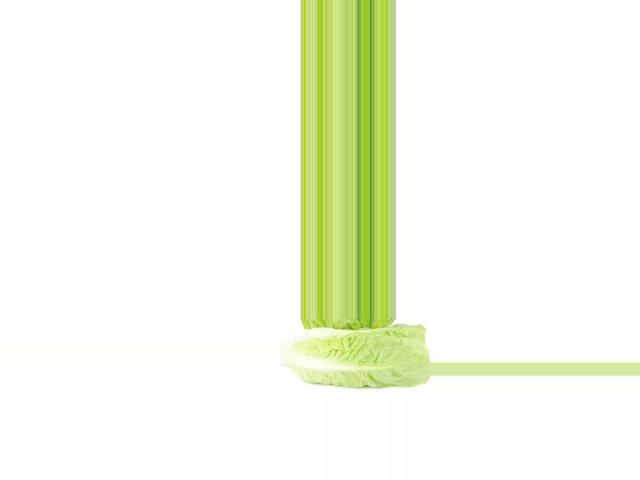lettuce: (281, 326, 431, 398)
